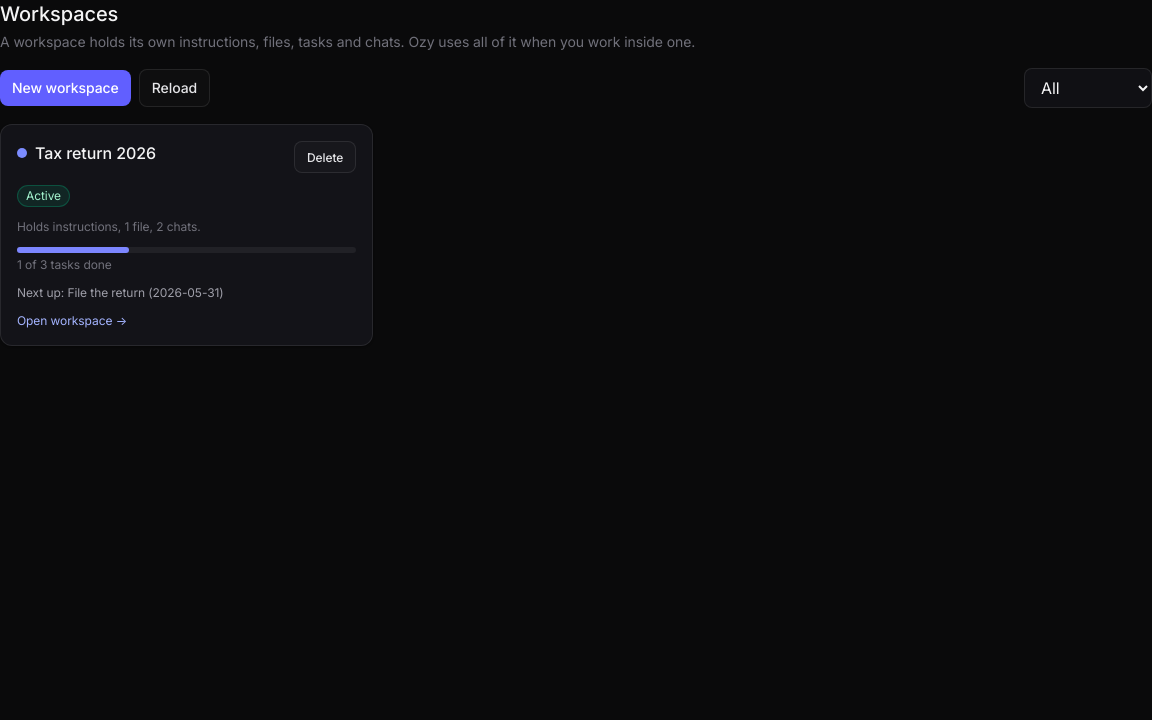
ProjectList › opens the create dialog
Click the button "New workspace" at (65, 88), box x1=0 y1=70 x2=131 y2=106
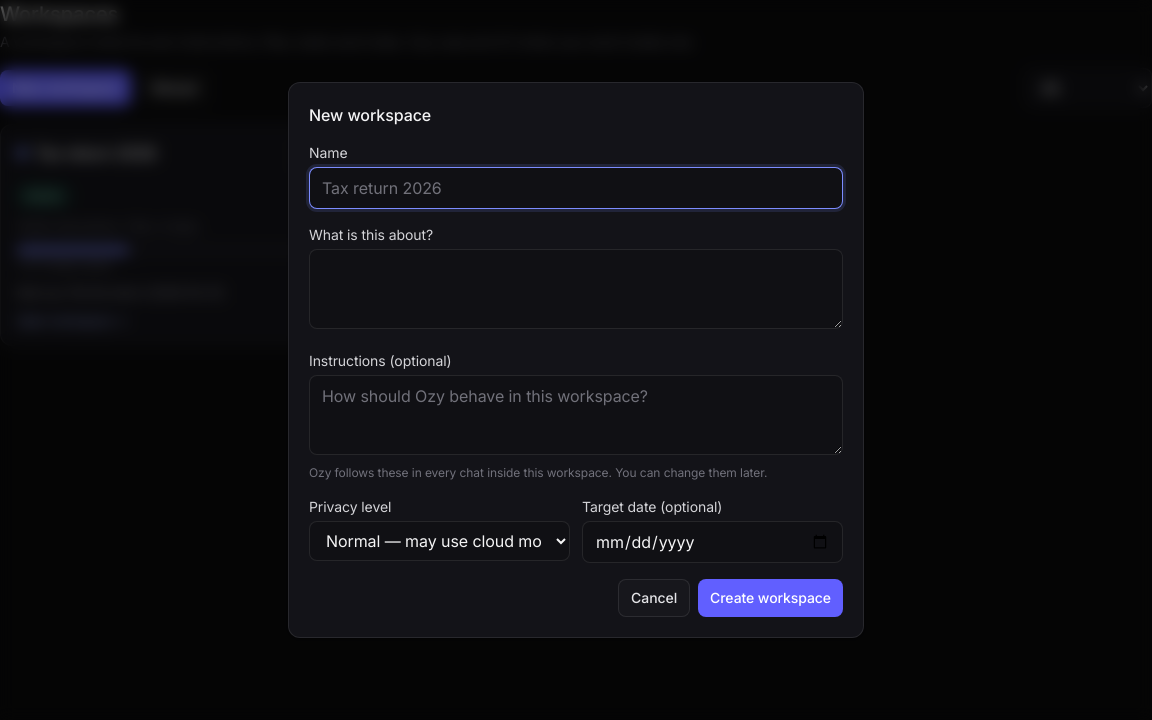
Expected: the dialog "New workspace" is shown, x1=288 y1=82 x2=864 y2=638
Expected: the field labelled "Name" is shown, x1=309 y1=167 x2=843 y2=209
Expected: the text box labelled "Instructions (optional)" is shown, x1=309 y1=375 x2=843 y2=455
